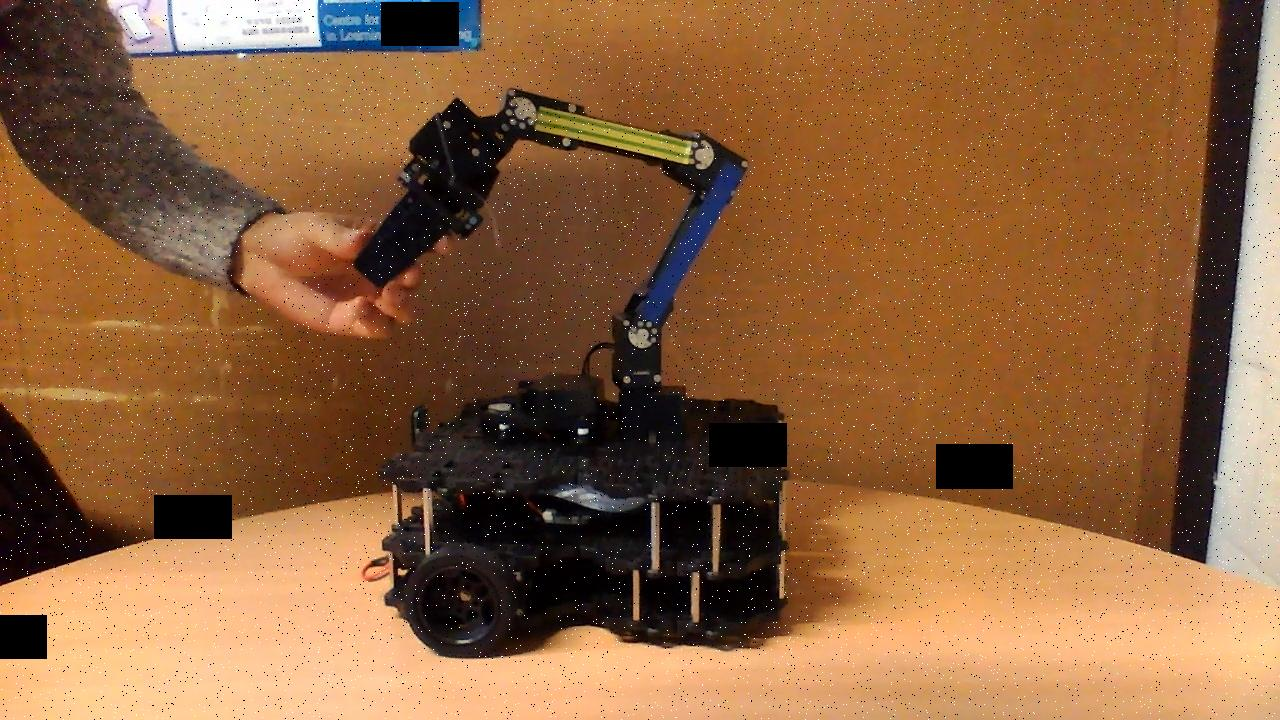Arm: (613, 159, 754, 353)
Hand: (353, 94, 524, 292)
Wrist: (500, 84, 718, 175)
base: (358, 371, 795, 661)
